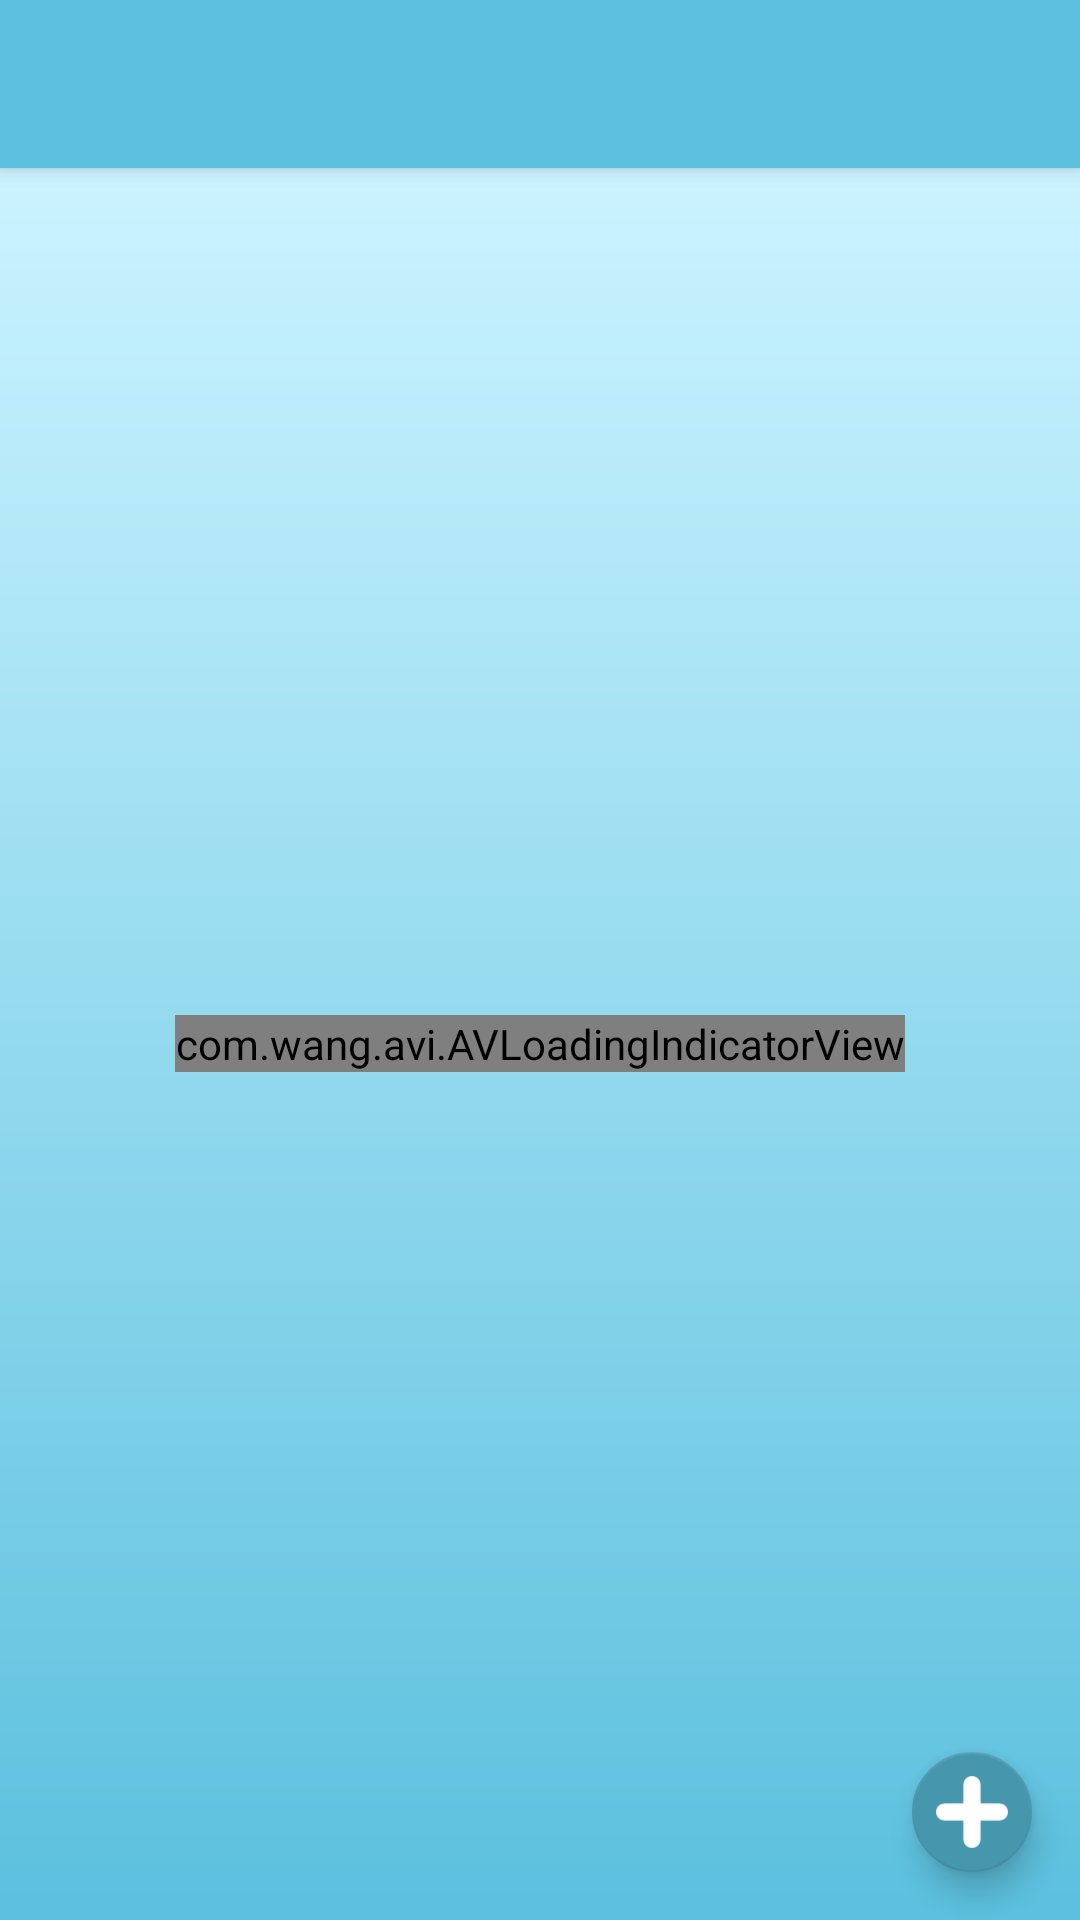

Point at icon controls on the screen. Image size 1080×1920, points as [x,y].
add: [972,1812]
